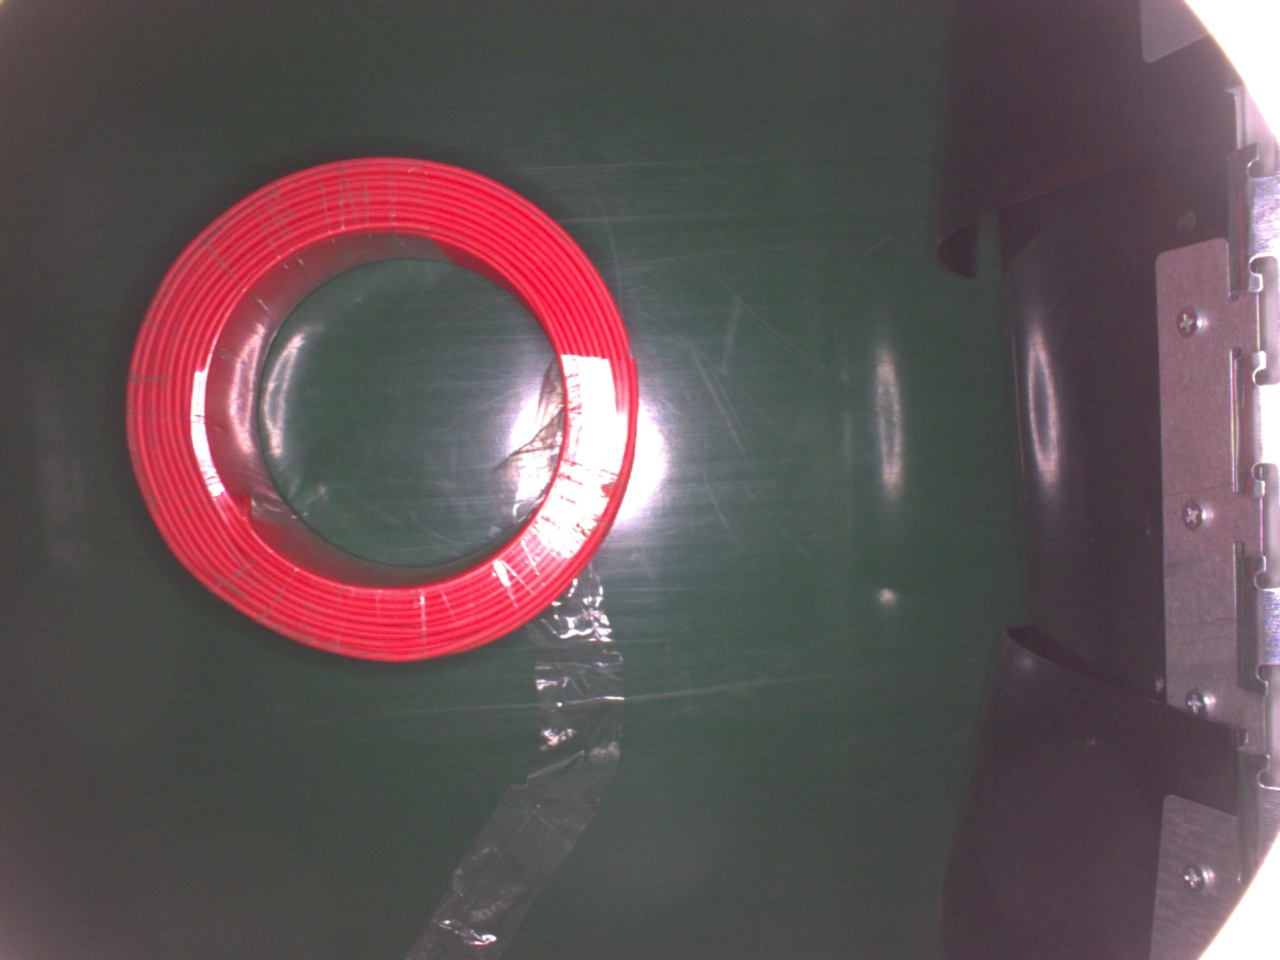red: (124, 154, 647, 668)
